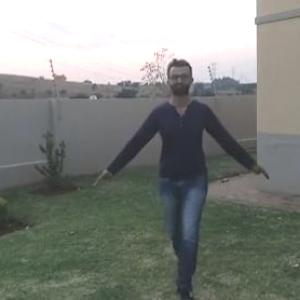land: (128, 78, 238, 271)
